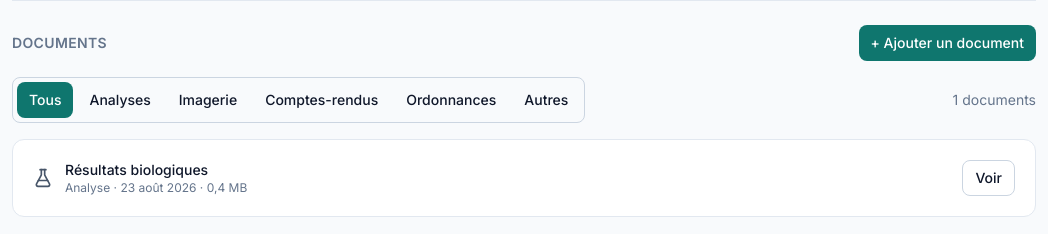
DocumentsSection › shows the filtered-empty message for a category with nothing (and the result count)
The width and height of the screenshot is (1048, 234).
Check: the text "1 documents" is shown, box [953,90,1036,110]
What coordinates should you click on to do the following:
click the button "Comptes-rendus"
I would click on:
 (322, 100)
Its box is [253,82,390,118].
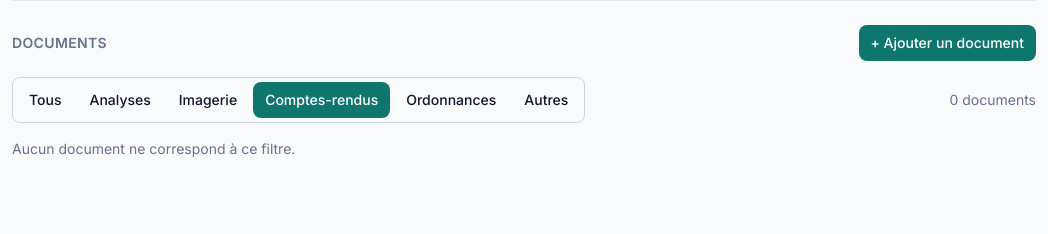
Check: the text "Aucun document ne correspond à ce filtre." is shown, box [12,140,295,157]
